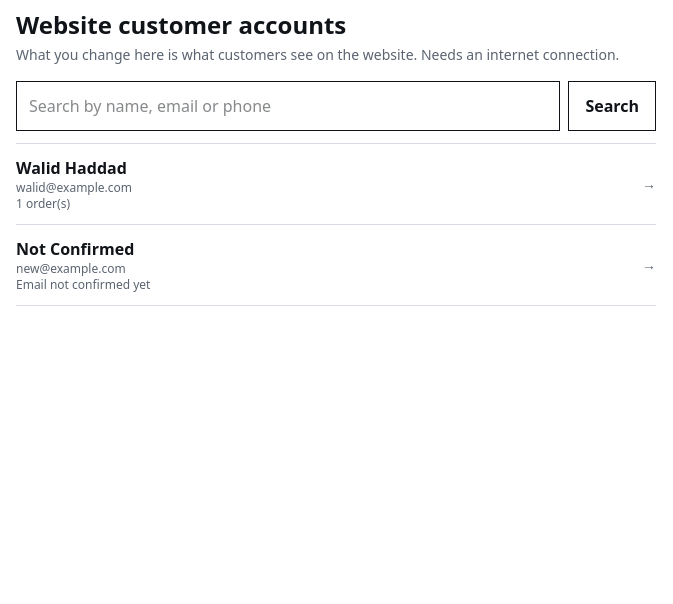
the website accounts screen › shows one account with its orders, and disables it after a confirmation
This screenshot has width=673, height=604.
Click the button "Walid Haddad walid@example.com 1 order(s) ←": (71, 168) [16,144,656,224]
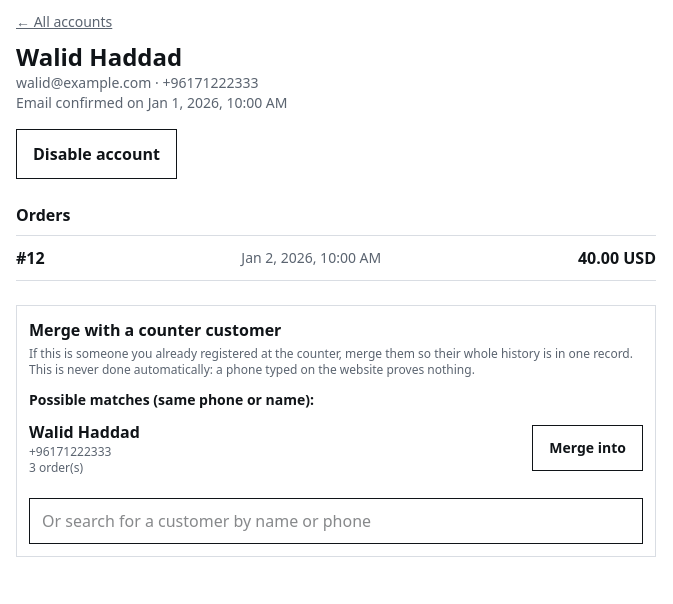
Expected: the text "#12" is shown, [16,246,45,270]
Click the button "Disable account": (96, 154) [16,129,177,179]
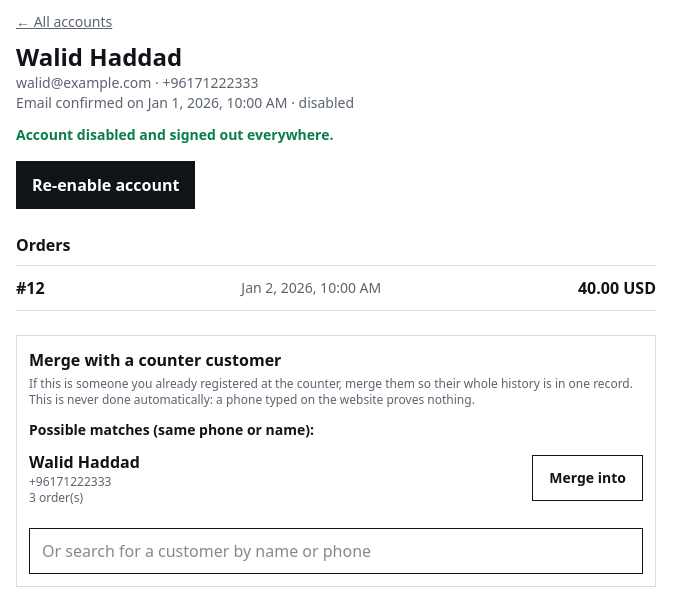
Expected: the text "Account disabled and signed out everywhere." is shown, [16,125,333,144]
Expected: the button "Re-enable account" is shown, [16,161,195,209]
